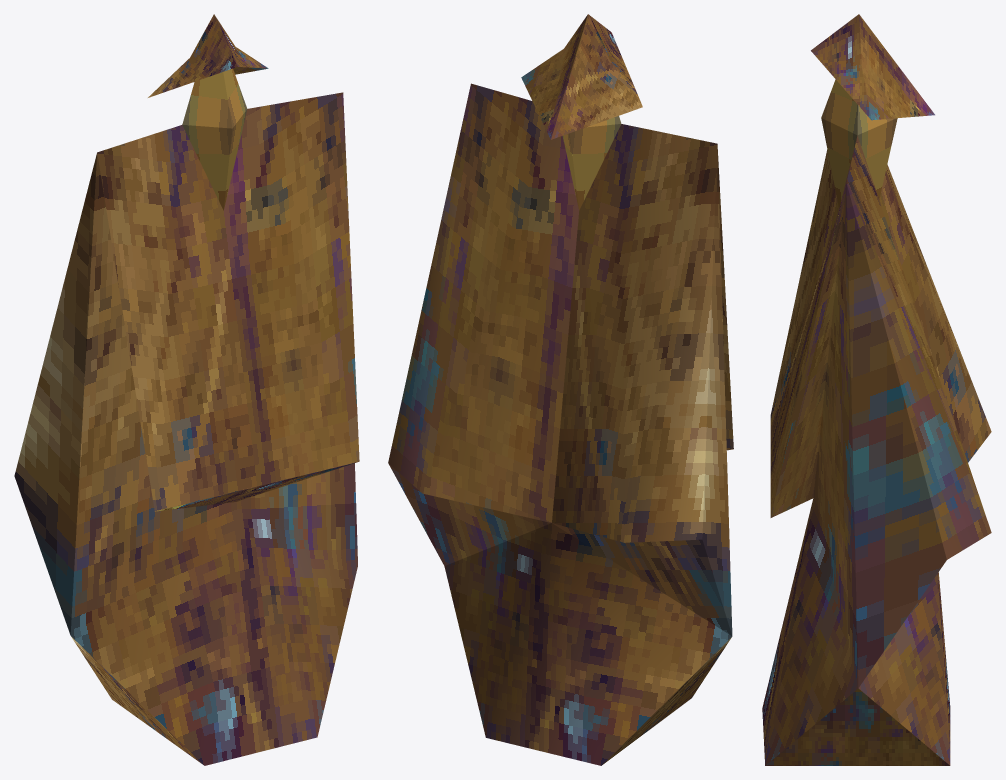
File: frn_all_decorative_lg_s2_l3.fbx
3 renders of one model, left to right at view 1: azimuth 30°, elevation 25°; view 2: azimuth 150°, elevation 25°; view 3: azimuth 270°, elevation 25°, orthographic. The views are drawn at different scales.
Parts seen in each view (by area): view 1: mesh_node; view 2: mesh_node; view 3: mesh_node.
Boxes of the visible parts, <box> form: mesh_node: <box>14,14,359,765</box>; mesh_node: <box>388,14,733,765</box>; mesh_node: <box>762,14,991,765</box>.
Size of the model in its own units: 0.729 by 1.56 by 0.4495.
